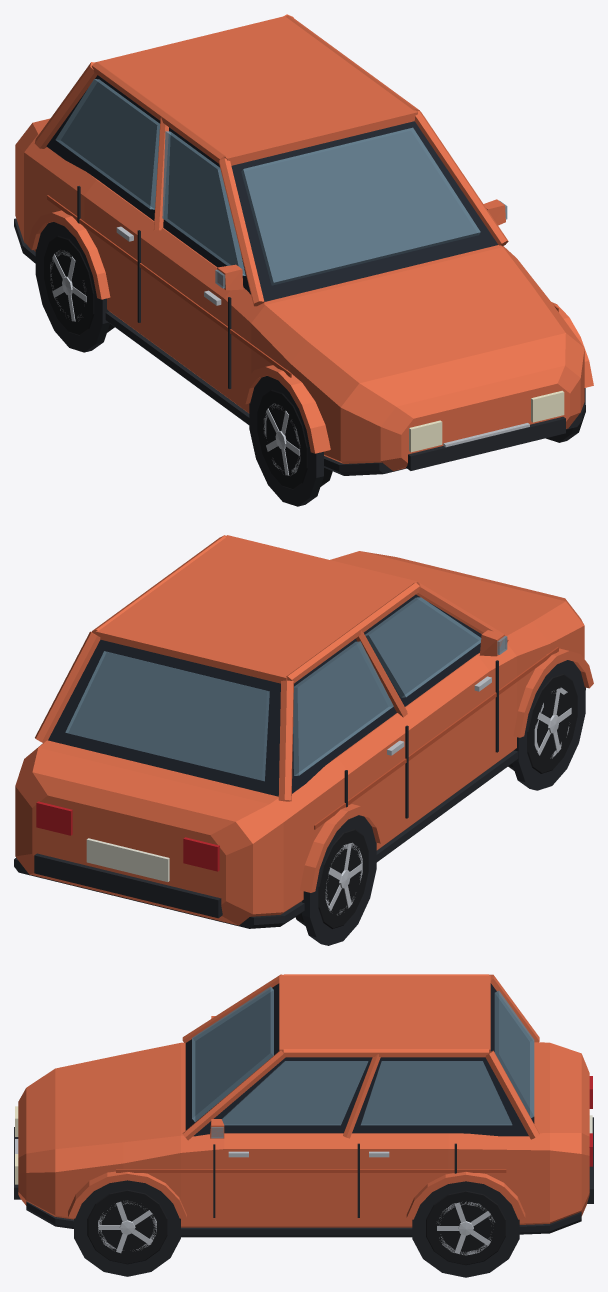
Rendered from CAR_01.obj.
The picture shows the model from 3 angles, top to bottom: view 1: azimuth 30°, elevation 25°; view 2: azimuth 150°, elevation 25°; view 3: azimuth 270°, elevation 25°; orthographic projection. The views are drawn at different scales.
Parts seen in each view (by area): view 1: cabin, body, glass, wheel_FL_arch, wheel_RL_arch, wheel_FL, wheel_RL, fascia, body_detail, lights, mirrors, wheel_FR_arch; view 2: cabin, body, glass, fascia, wheel_RL_arch, wheel_FL_arch, wheel_RL, wheel_FL, body_detail, lights, mirrors; view 3: body, cabin, glass, wheel_RR_arch, wheel_FR_arch, wheel_FR, wheel_RR, body_detail, fascia, lights.
Boxes of the visible parts, box(x1,y1,x2,y2) form: cabin: box(34, 14, 508, 306); body: box(14, 118, 585, 475); glass: box(55, 79, 480, 285); wheel_FL_arch: box(241, 365, 330, 506); wheel_RL_arch: box(27, 210, 110, 352); wheel_FL: box(257, 389, 332, 489); wheel_RL: box(44, 235, 114, 335); fascia: box(406, 416, 565, 470); body_detail: box(47, 186, 558, 388); lights: box(409, 390, 564, 452); mirrors: box(215, 199, 507, 290); wheel_FR_arch: box(546, 302, 593, 442); cabin: box(35, 535, 508, 801); body: box(14, 551, 585, 928); glass: box(65, 597, 481, 781); fascia: box(34, 838, 222, 918); wheel_RL_arch: box(300, 804, 384, 945); wheel_FL_arch: box(512, 648, 593, 790); wheel_RL: box(295, 829, 368, 928); wheel_FL: box(508, 673, 577, 773); body_detail: box(314, 647, 558, 829); lights: box(36, 801, 219, 871); mirrors: box(479, 630, 507, 656); body: box(18, 1042, 589, 1237); cabin: box(182, 974, 539, 1140); glass: box(192, 986, 534, 1125); wheel_RR_arch: box(406, 1172, 525, 1277); wheel_FR_arch: box(68, 1171, 186, 1276); wheel_FR: box(87, 1189, 167, 1264); wheel_RR: box(426, 1190, 505, 1265); body_detail: box(116, 1143, 506, 1217); fascia: box(14, 1115, 593, 1203); lights: box(15, 1076, 592, 1184).
Size of the model in its own units: 1.82 by 1.62 by 4.01.
